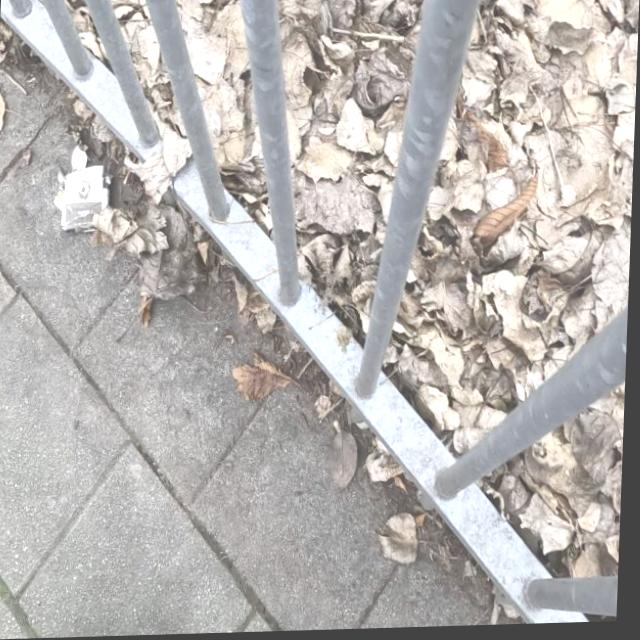Paper: (51, 143, 115, 237)
